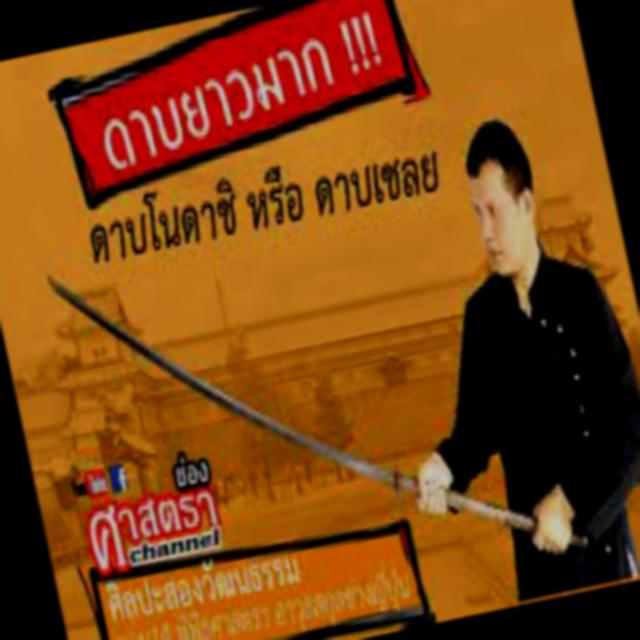long sword: (39, 161, 622, 640)
